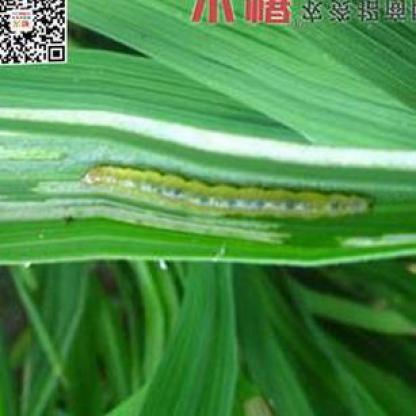leaf-folder: (82, 149, 388, 238)
